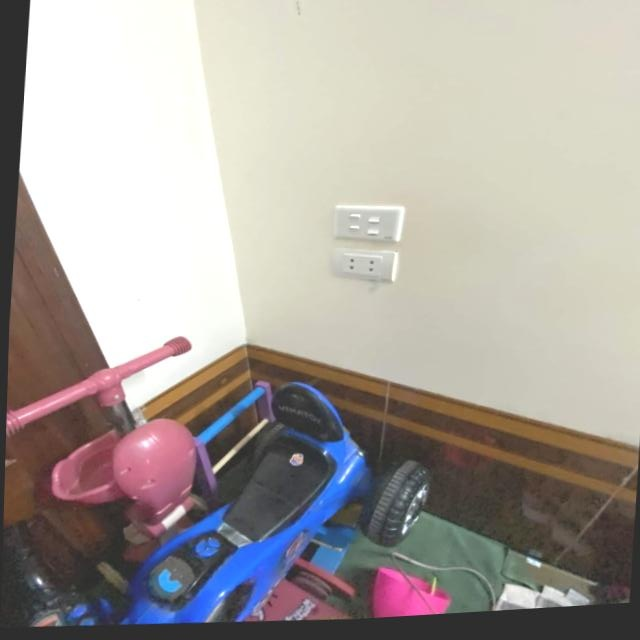outlet: (329, 245, 398, 288)
